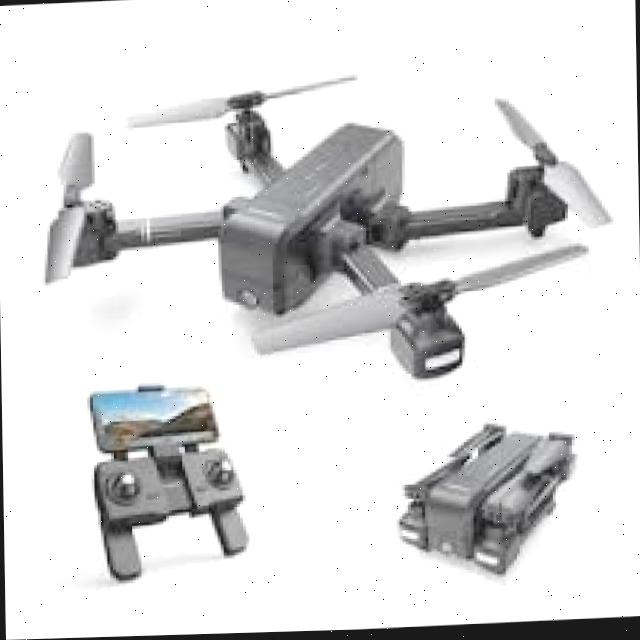drone: (0, 45, 640, 403)
